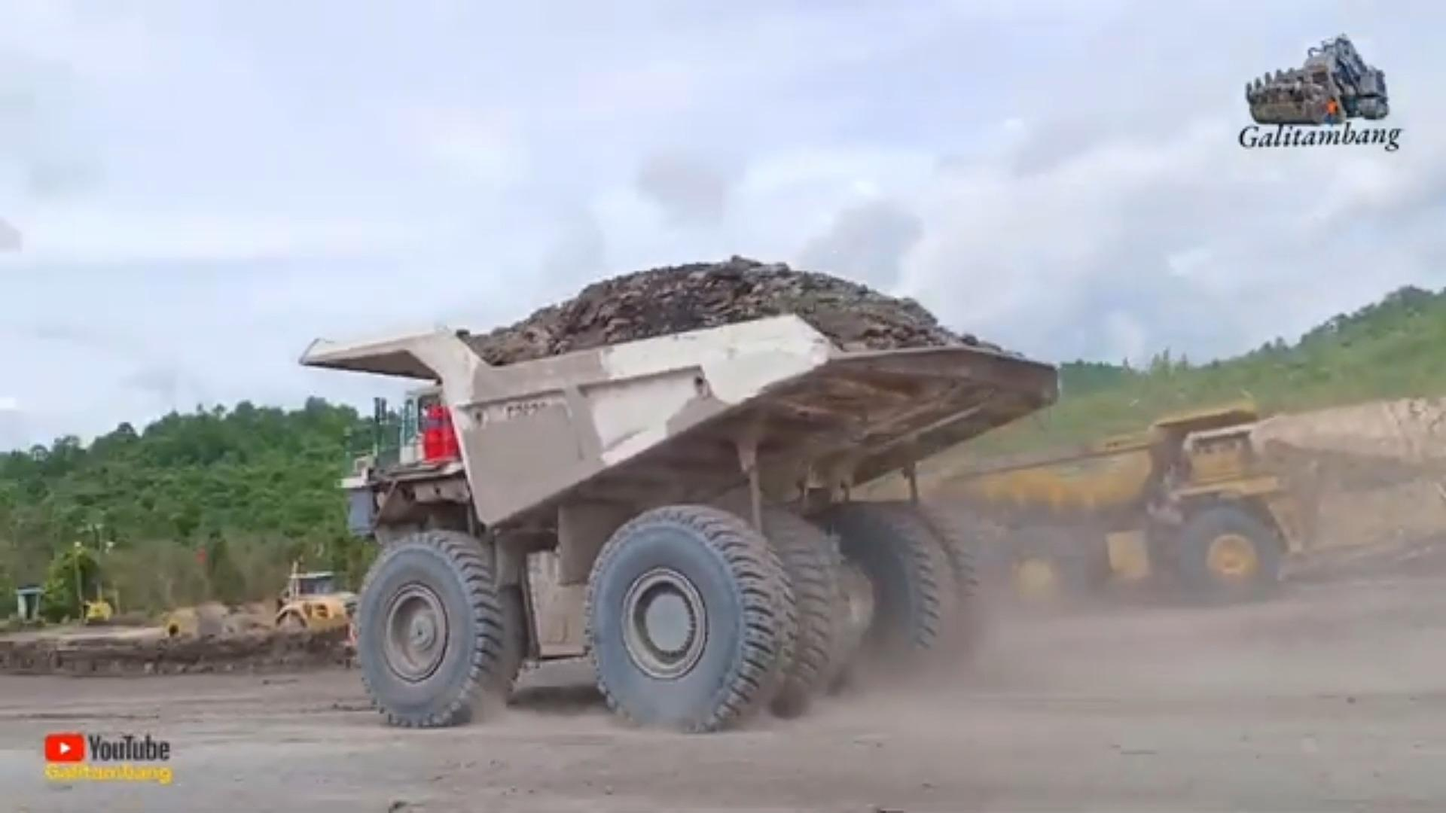HD-Truck: (299, 315, 1058, 731), (947, 400, 1315, 600)
